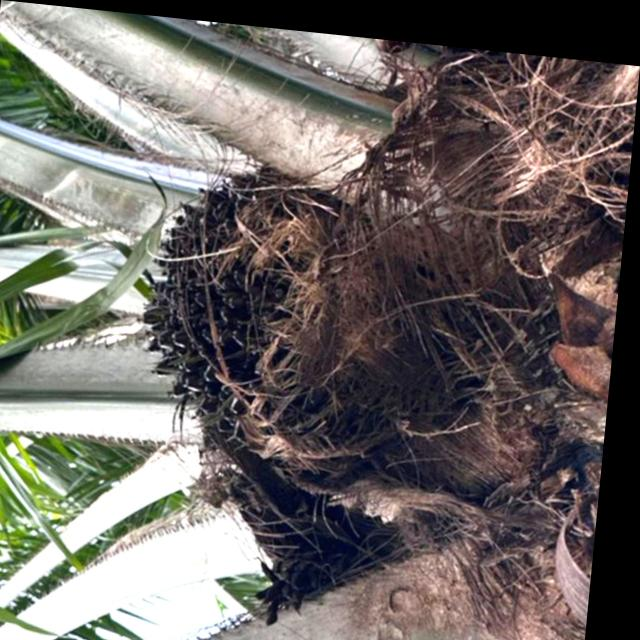almost: (130, 154, 466, 478)
